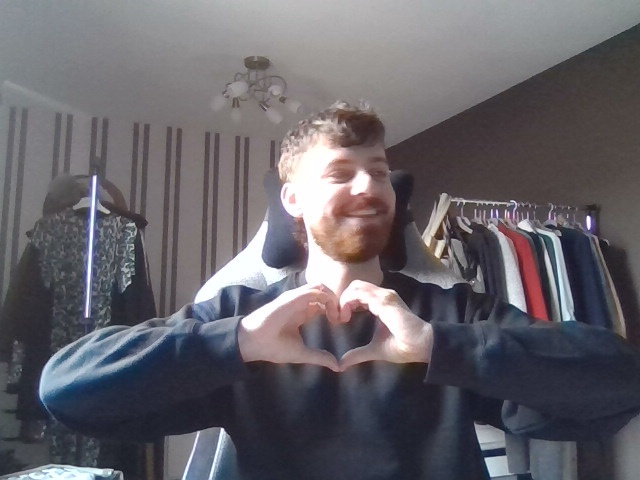Love: (234, 269, 440, 389)
